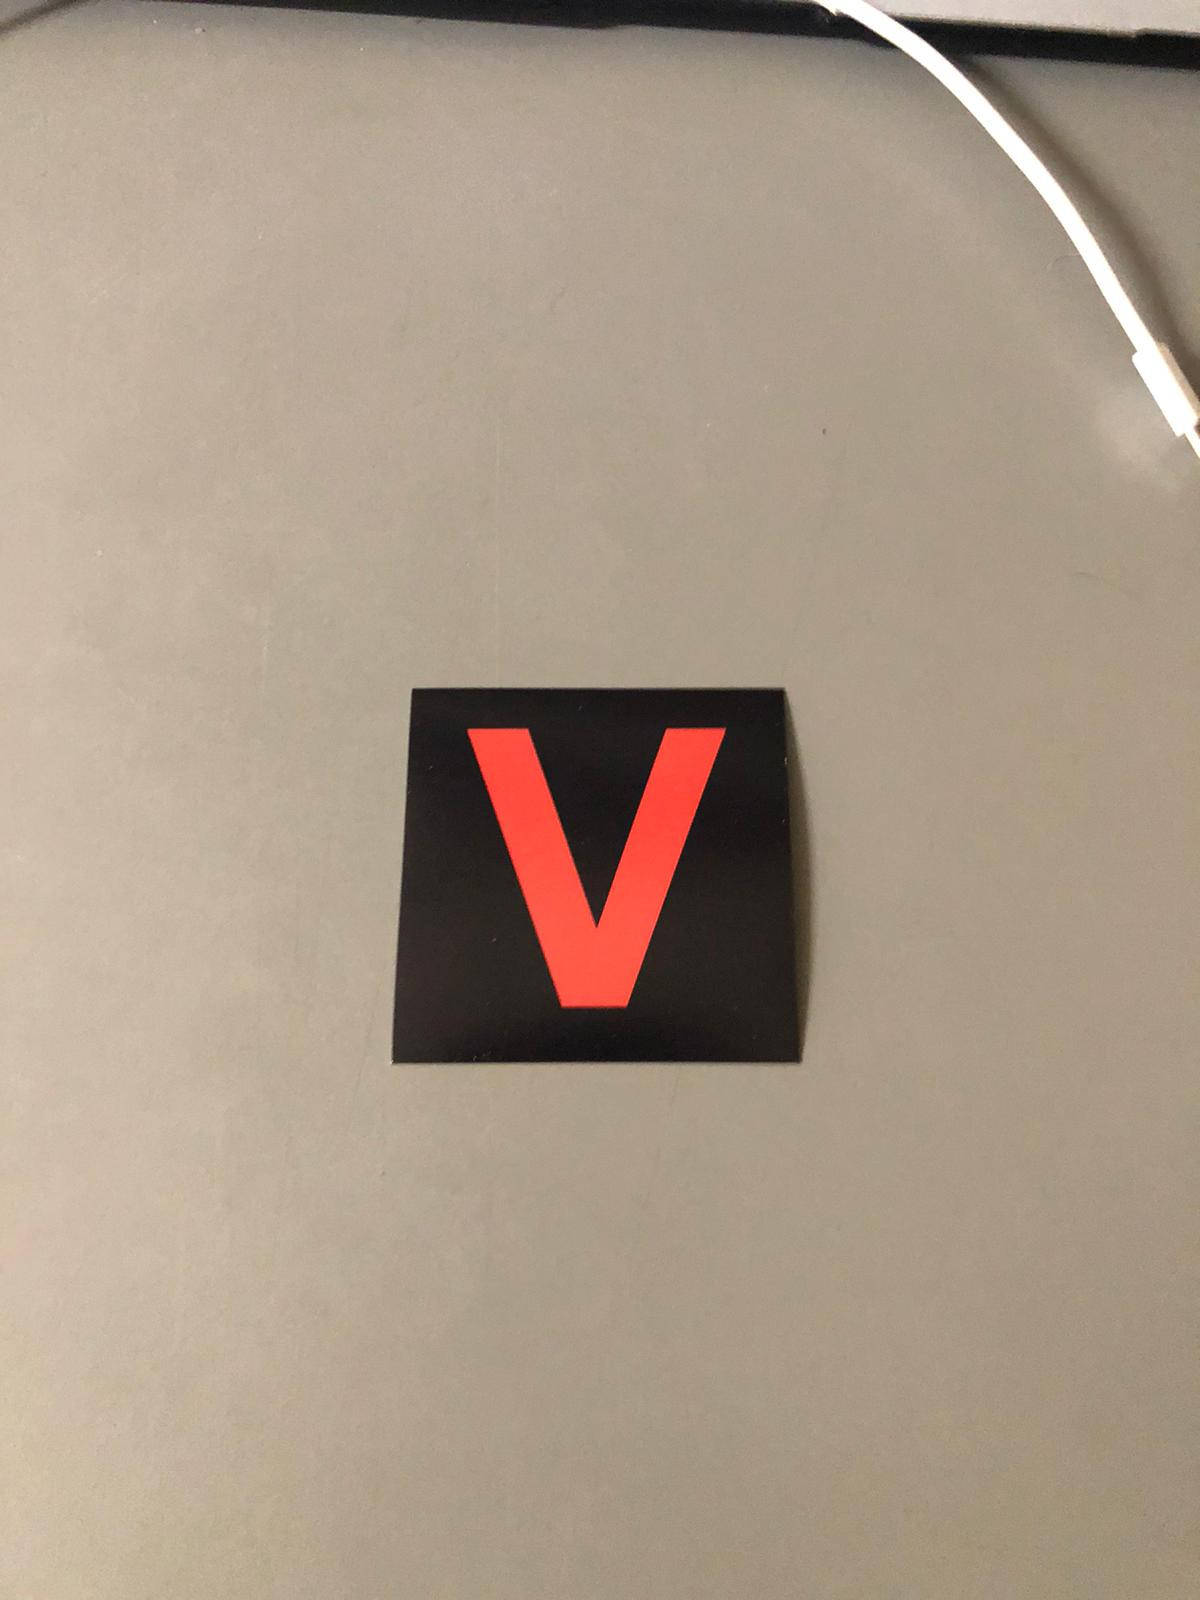V: (413, 690, 793, 1049)
